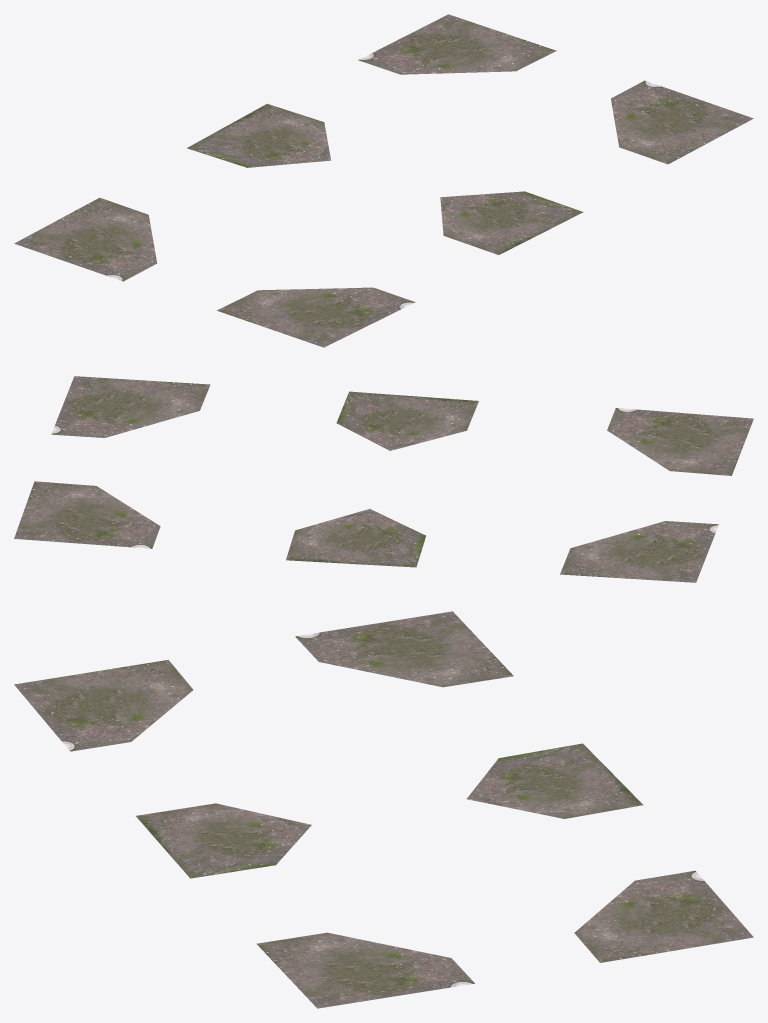
File: ground_AM.FBX
3 renders of one model, top to bottom at view 1: azimuth 30°, elevation 25°; view 2: azimuth 150°, elevation 25°; view 3: azimuth 270°, elevation 25°, orthographic. The views are drawn at different scales.
Visible parts, largest first — view 1: ground_AM; view 2: ground_AM; view 3: ground_AM.
Part boxes in pixels (x1=…): ground_AM: x1=14, y1=14, x2=753, y2=347; ground_AM: x1=14, y1=376, x2=753, y2=582; ground_AM: x1=14, y1=611, x2=753, y2=1008.
Bounding box in the file's own units: 1706 × 1.46e-05 × 1343.
Materials: 1 (1 with a texture image).
